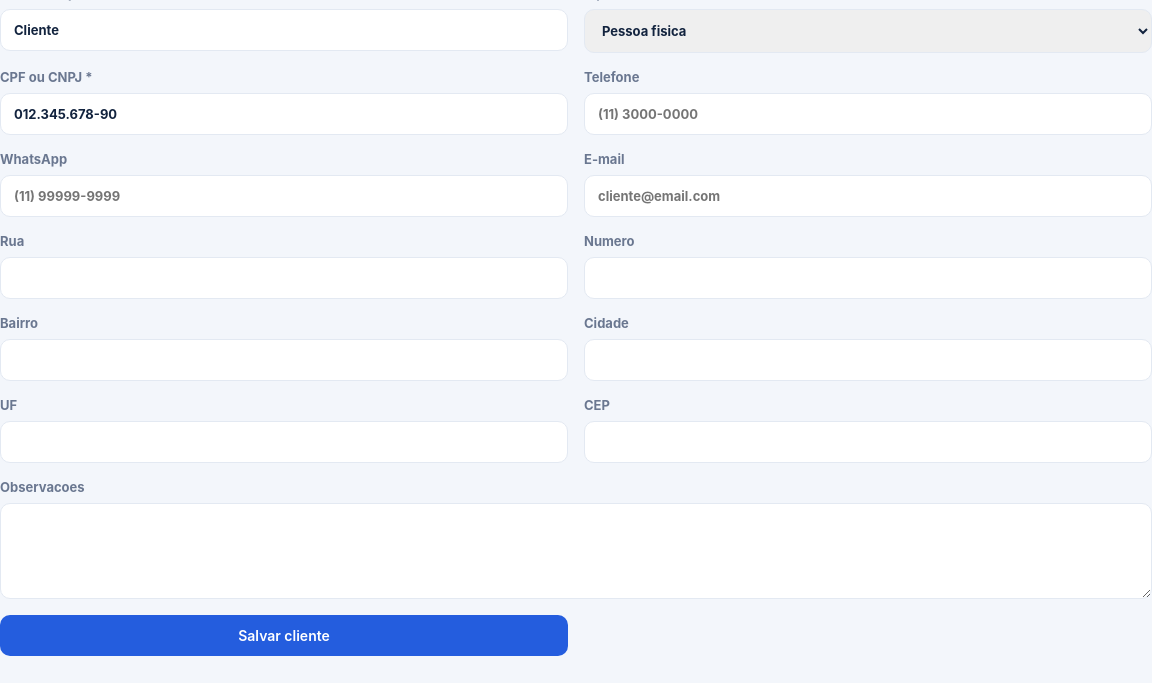
Scenario: ClientForm › envia documento com mascara normalizado
Click the button "Salvar cliente". click: (284, 636)
box: [0, 615, 568, 656]
(page scrolled)
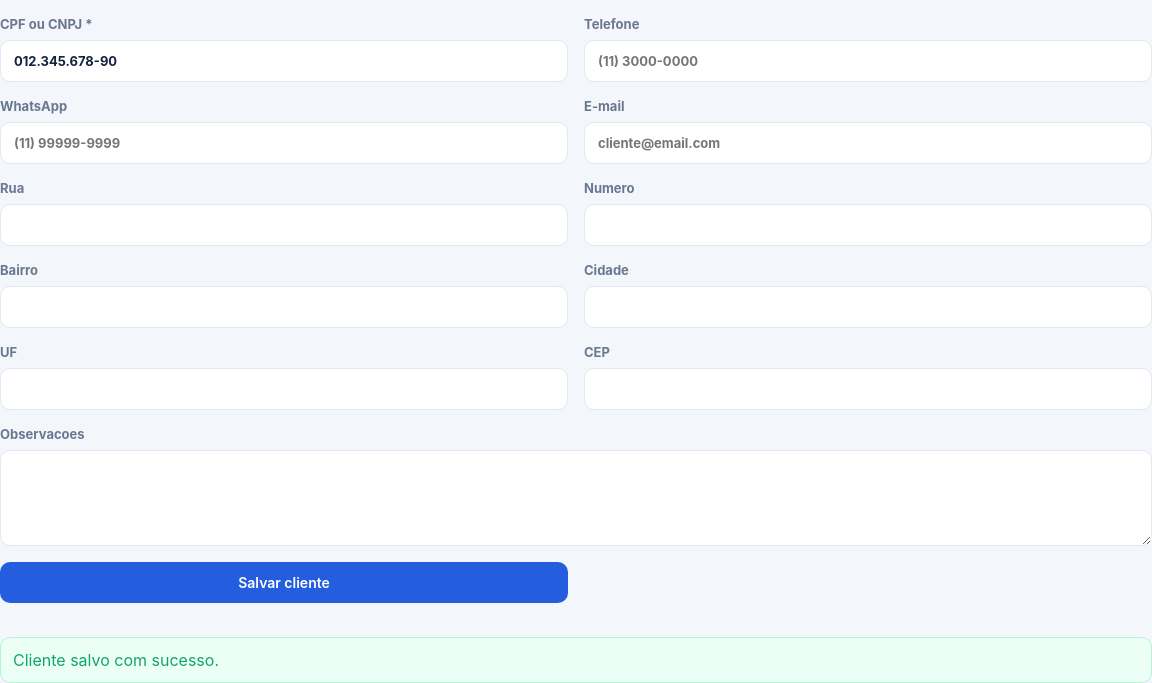
Expected: the text "Cliente salvo com sucesso." is shown, [0, 637, 1151, 682]
